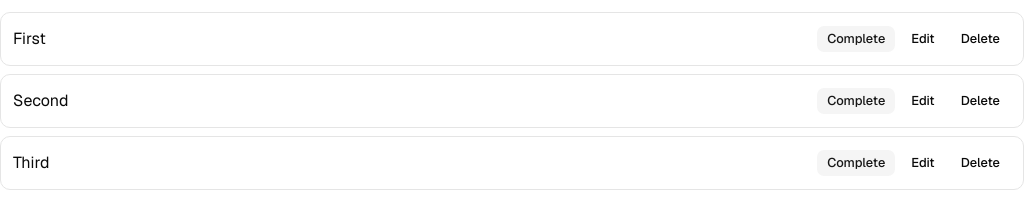
it: TaskList › collapses a removed row in the slot it held
The width and height of the screenshot is (1024, 207).
Click the button with aria-label "Delete Second": {"x": 980, "y": 101} [950,87,1011,115]
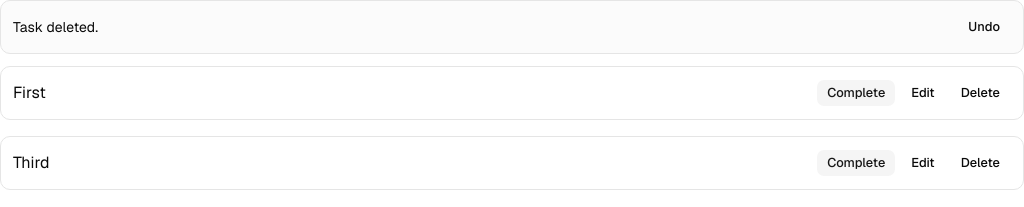
Check: the text "Task deleted." is shown, box [13,17,98,37]
Click the button "Undo": {"x": 984, "y": 27} [957,13,1011,41]
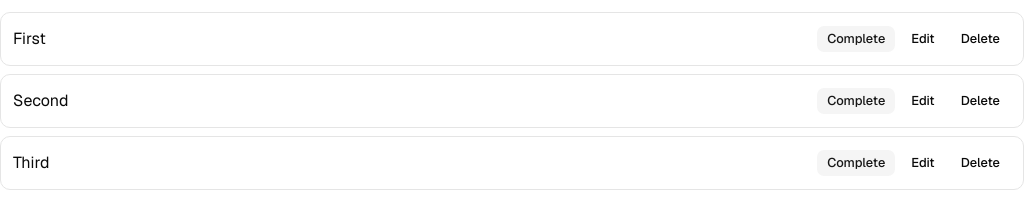
Check: the text "Task deleted." is gone
